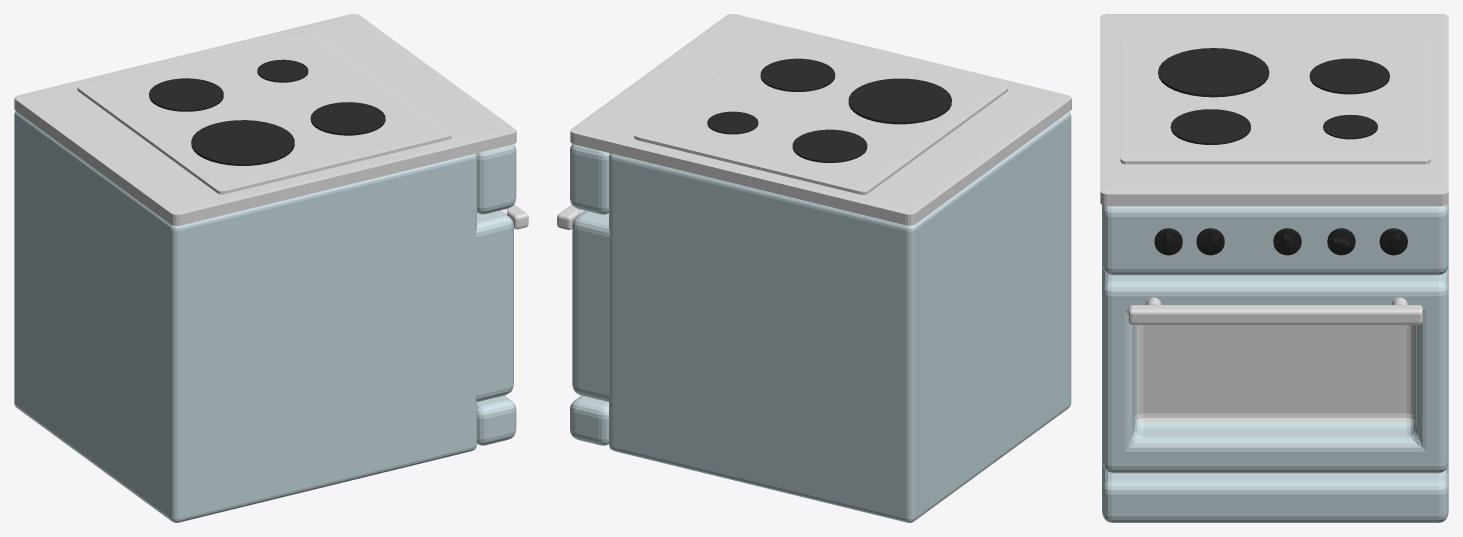
Rendered from ocak_ali.fbx.
The picture shows the model from 3 angles, left to right: view 1: azimuth 30°, elevation 25°; view 2: azimuth 150°, elevation 25°; view 3: azimuth 270°, elevation 25°; orthographic projection. The views are drawn at different scales.
Visible parts, largest first — view 1: ocak; view 2: ocak; view 3: ocak.
Part boxes in pixels (x1=…): ocak: x1=14, y1=14, x2=528, y2=522; ocak: x1=557, y1=14, x2=1071, y2=522; ocak: x1=1100, y1=14, x2=1448, y2=522.
Bounding box in the file's own units: 121 × 99.45 × 92.62.
